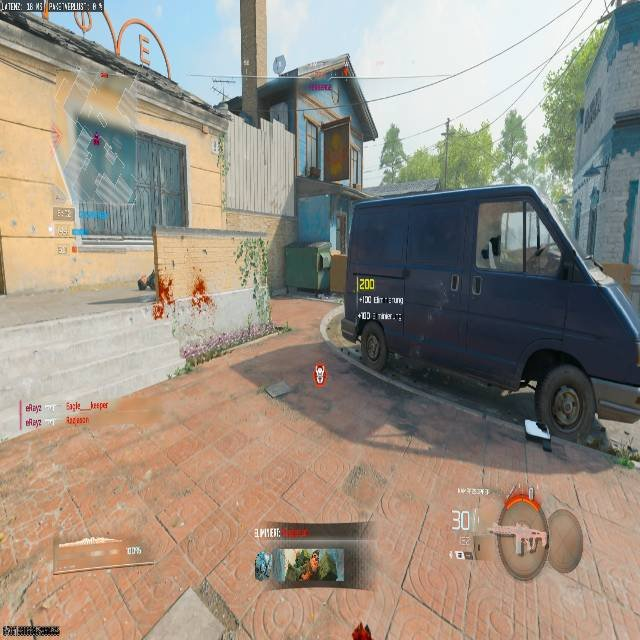head: (136, 272, 151, 290)
player: (141, 272, 174, 320), (189, 275, 209, 313)
